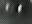person: (18, 5, 24, 15), (6, 4, 11, 14)
